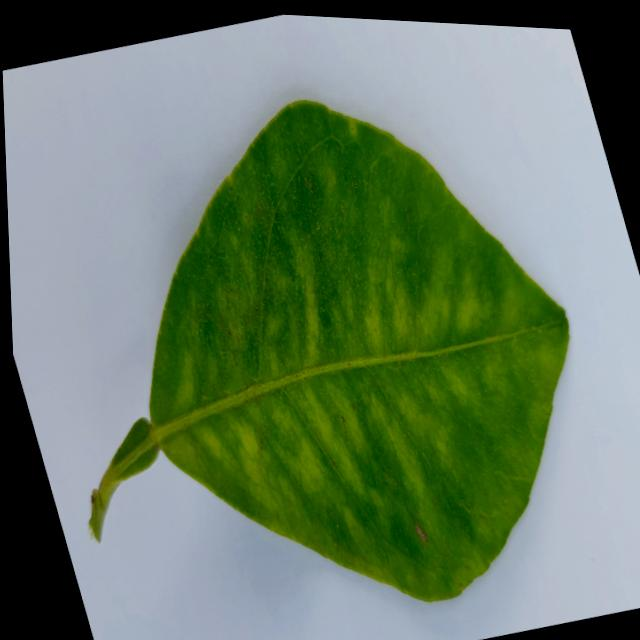greening: (102, 102, 567, 599)
